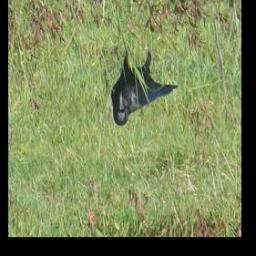Crow: (111, 45, 180, 126)
